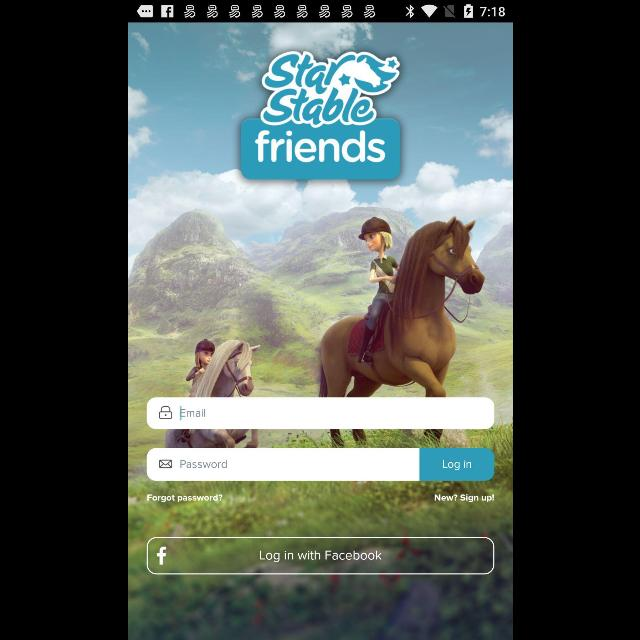backgroundimage: (128, 22, 512, 640)
icon: (158, 406, 172, 418), (158, 460, 172, 468)
image: (239, 50, 399, 180)
input: (146, 397, 494, 429), (146, 448, 418, 480)
text: (146, 495, 222, 503), (434, 493, 494, 502), (180, 460, 227, 468), (180, 409, 204, 417)
textbutton: (146, 537, 494, 575), (418, 448, 494, 482)
uppertaskbar: (128, 1, 512, 23)
